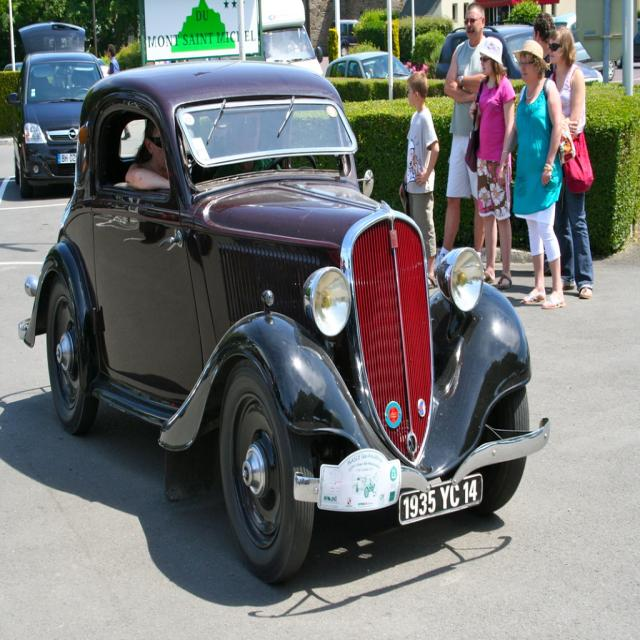car: (17, 59, 548, 582)
